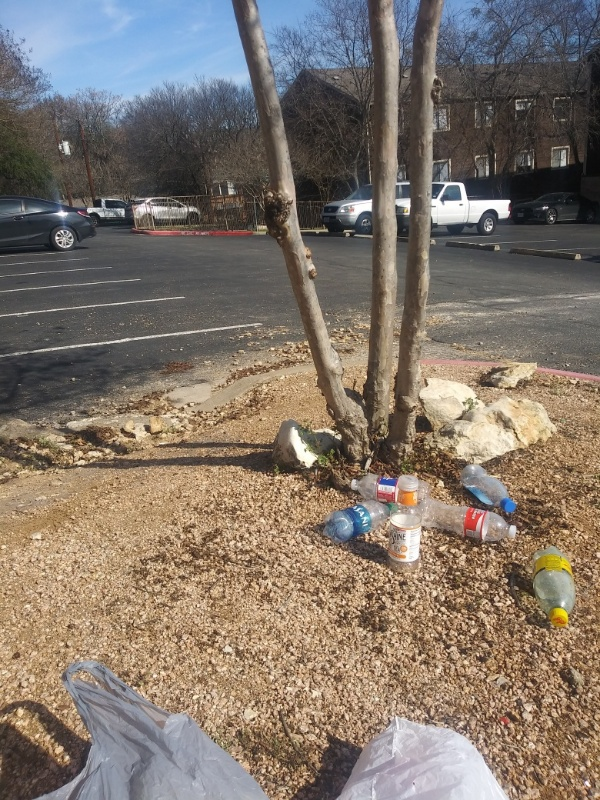bottle: (419, 496, 527, 544), (527, 545, 582, 630), (451, 456, 526, 518), (382, 471, 423, 573), (316, 500, 406, 541), (344, 470, 425, 501)
